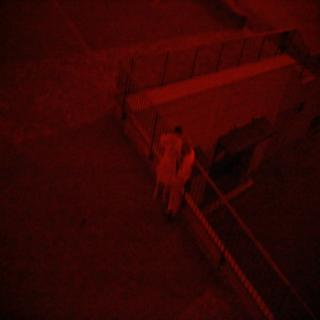person: (150, 117, 185, 217), (173, 137, 204, 237)
